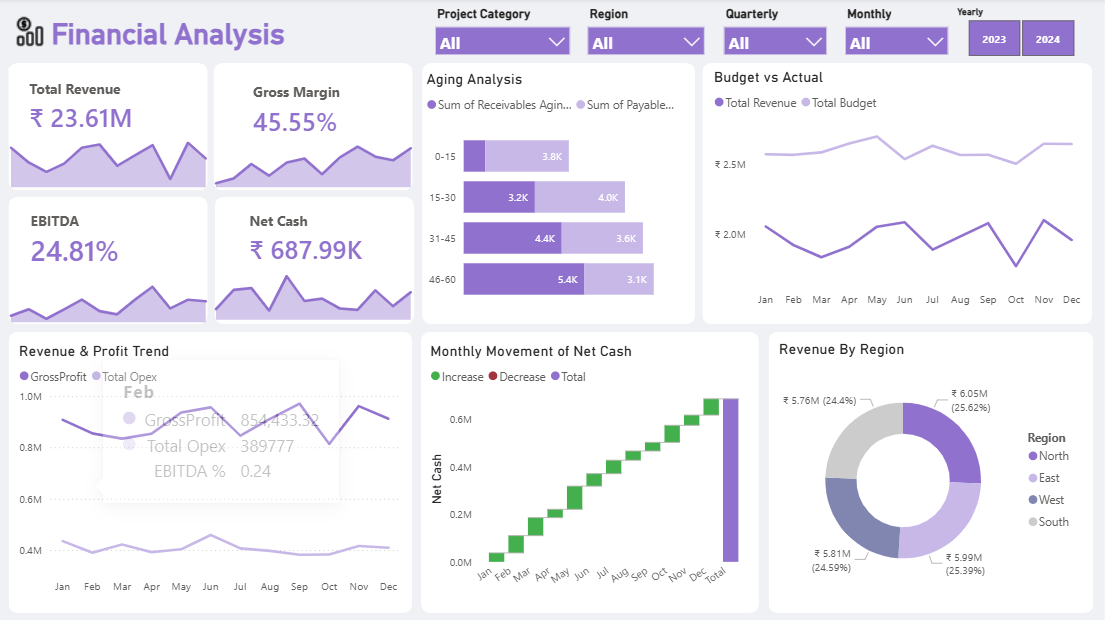

The dashboard page shown, as its layout file describes it:
{"tool":"powerbi","page":{"name":"Financial Report","canvas":[1280,720],"ordinal":0},"visuals":[{"type":"shape","title":"Background","box":[0,0,1279.7,719.9],"z":0},{"type":"textbox","title":"Title","box":[59.2,17.3,311.6,57.7],"z":1000},{"type":"image","title":"Logo","box":[15,20,50,36.7],"z":2000},{"type":"shape","box":[14.4,385.2,466,324.6],"z":3000},{"type":"shape","box":[14.4,75,230,147.2],"z":4000},{"type":"shape","box":[14.4,229.4,230,147.2],"z":5000},{"type":"shape","box":[490.5,385.2,390,324.6],"z":6000},{"type":"shape","box":[815.2,75,450.1,301.5],"z":7000},{"type":"shape","box":[891.6,385.2,375.1,324.6],"z":8000},{"type":"slicer","fields":{"Values":["Date Table.Year"]},"box":[1096.5,4.3,171.7,69.3],"z":9000},{"type":"shape","box":[492,75,315,301.5],"z":10000},{"type":"lineChart","title":"Revenue & Profit Trend","fields":{"Y":["Dataset.GrossProfit","Dataset.Total Opex"],"Category":["Date Table.Month Name"]},"box":[21.6,396.8,450.1,300.1],"z":13000},{"type":"lineChart","title":"Budget vs Actual","fields":{"Category":["Date Table.Month Name","DateTable.Year"],"Y":["Dataset.Total Revenue","Dataset.Total Budget"]},"box":[823.8,80.8,435.7,285.7],"z":14000},{"type":"donutChart","title":"Revenue By Region","fields":{"Y":["Dataset.Total Revenue"],"Category":["Dataset.Region"]},"box":[898.8,395.3,360.7,304.4],"z":15000},{"type":"barChart","title":"Aging Analysis","fields":{"Category":["Dataset.Receivable Bucket"],"Y":["Sum(Dataset.Receivables Aging (Days))","Sum(Dataset.Payables Aging (Days))"]},"box":[492,83.7,310,284.2],"z":16000},{"type":"waterfallChart","title":"Monthly Movement of Net Cash ","fields":{"Category":["DateTable.Month Name"],"Y":["Dataset.Net Cash"]},"box":[496.3,396.8,375,303],"z":17000},{"type":"shape","box":[251,75,230,147.2],"z":18000},{"type":"shape","box":[252.5,229.4,230,147.2],"z":19000},{"type":"cardVisual","fields":{"Data":["Dataset.Total Revenue"]},"box":[14.4,75,190.4,98.1],"z":20000},{"type":"cardVisual","fields":{"Data":["Dataset.Gross Margin %"]},"box":[272.7,79.4,174.6,98.1],"z":21000},{"type":"cardVisual","fields":{"Data":["Dataset.EBITDA %"]},"box":[15.9,229.4,174.6,98.1],"z":22000},{"type":"cardVisual","fields":{"Data":["Dataset.Net Cash"]},"box":[268.4,228,190.4,98.1],"z":23000},{"type":"stackedAreaChart","fields":{"Category":["Date Table.Month Name"],"Y":["Dataset.Total Revenue"]},"box":[4.3,152.9,251,70.7],"z":24000},{"type":"stackedAreaChart","fields":{"Category":["Date Table.Month Name"],"Y":["Dataset.Net Cash"]},"box":[240.9,305.9,251,70.7],"z":25000},{"type":"stackedAreaChart","fields":{"Category":["Date Table.Month Name"],"Y":["Dataset.Gross Margin %"]},"box":[240.9,152.9,251,70.7],"z":26000},{"type":"stackedAreaChart","fields":{"Category":["Date Table.Month Name"],"Y":["Dataset.EBITDA %"]},"box":[4.3,308.8,251,70.7],"z":27000},{"type":"slicer","fields":{"Values":["DateTable.Month Name"]},"box":[969.5,4.3,139.9,60.6],"z":27001},{"type":"slicer","fields":{"Values":["Dataset.Product/Service"]},"box":[496.3,4.3,176,60.6],"z":27002},{"type":"slicer","fields":{"Values":["Dataset.Region"]},"box":[672.3,4.3,155.8,60.6],"z":27003},{"type":"slicer","fields":{"Values":["DateTable.Quarter"]},"box":[829.6,4.3,139.9,60.6],"z":27004}]}

Visuals, with their boxes in screenshot pixels (x1, y1, x2, y2), scaled from the page's 1280x720 canvas onto the 1105x620 screenshot:
"Background" shape: [left=0, top=0, right=1104, bottom=619]
"Title" textbox: [left=51, top=15, right=320, bottom=65]
"Logo" image: [left=13, top=17, right=56, bottom=49]
shape: [left=12, top=332, right=415, bottom=611]
shape: [left=12, top=65, right=211, bottom=191]
shape: [left=12, top=198, right=211, bottom=324]
shape: [left=423, top=332, right=760, bottom=611]
shape: [left=704, top=65, right=1092, bottom=324]
shape: [left=770, top=332, right=1094, bottom=611]
slicer - Date Table.Year: [left=947, top=4, right=1095, bottom=63]
shape: [left=425, top=65, right=697, bottom=324]
"Revenue & Profit Trend" lineChart: [left=19, top=342, right=407, bottom=600]
"Budget vs Actual" lineChart: [left=711, top=70, right=1087, bottom=316]
"Revenue By Region" donutChart: [left=776, top=340, right=1087, bottom=603]
"Aging Analysis" barChart: [left=425, top=72, right=692, bottom=317]
"Monthly Movement of Net Cash " waterfallChart: [left=428, top=342, right=752, bottom=603]
shape: [left=217, top=65, right=415, bottom=191]
shape: [left=218, top=198, right=417, bottom=324]
cardVisual - Dataset.Total Revenue: [left=12, top=65, right=177, bottom=149]
cardVisual - Dataset.Gross Margin %: [left=235, top=68, right=386, bottom=153]
cardVisual - Dataset.EBITDA %: [left=14, top=198, right=164, bottom=282]
cardVisual - Dataset.Net Cash: [left=232, top=196, right=396, bottom=281]
stackedAreaChart - Date Table.Month Name x Dataset.Total Revenue: [left=4, top=132, right=220, bottom=193]
stackedAreaChart - Date Table.Month Name x Dataset.Net Cash: [left=208, top=263, right=425, bottom=324]
stackedAreaChart - Date Table.Month Name x Dataset.Gross Margin %: [left=208, top=132, right=425, bottom=193]
stackedAreaChart - Date Table.Month Name x Dataset.EBITDA %: [left=4, top=266, right=220, bottom=327]
slicer - DateTable.Month Name: [left=837, top=4, right=958, bottom=56]
slicer - Dataset.Product/Service: [left=428, top=4, right=580, bottom=56]
slicer - Dataset.Region: [left=580, top=4, right=715, bottom=56]
slicer - DateTable.Quarter: [left=716, top=4, right=837, bottom=56]
